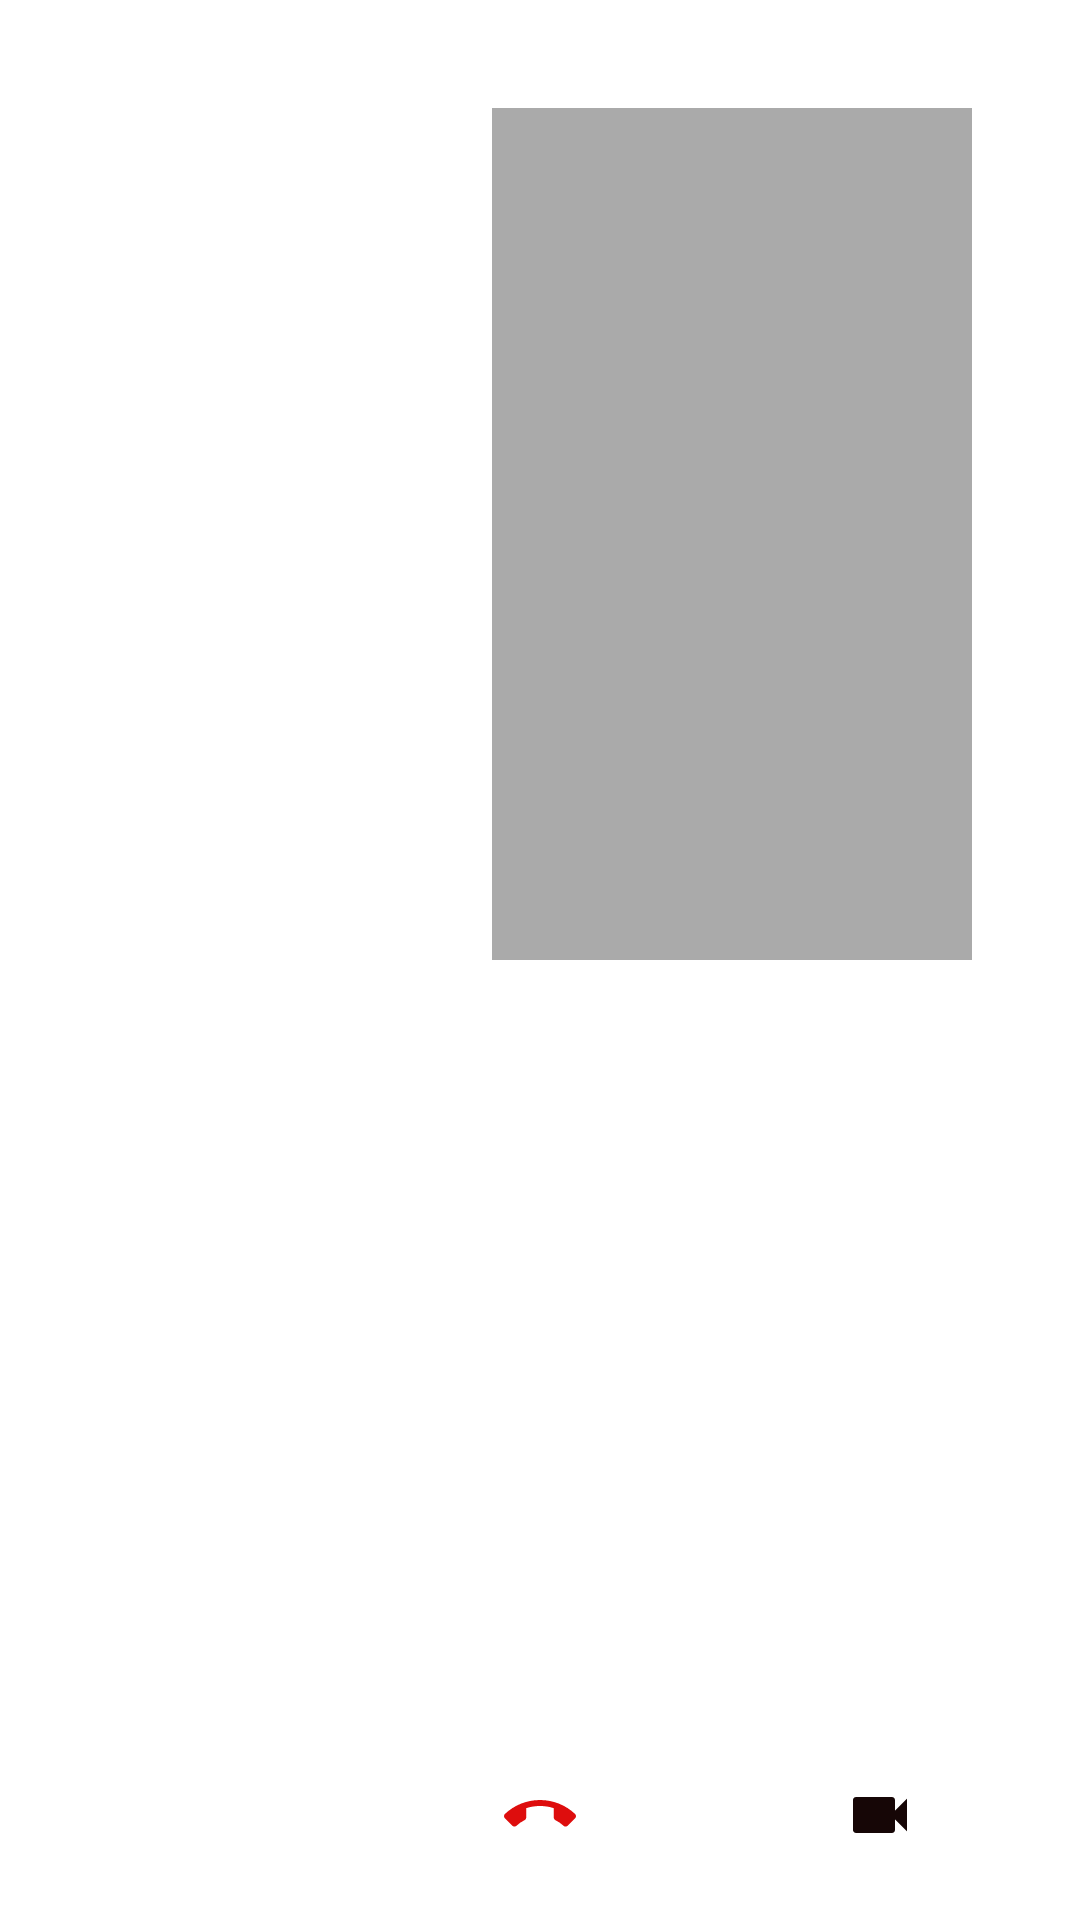

Icons on this 1080px x 1920px Android screen, each with the point to tap as (x,y):
call end: (540,1813)
videocam: (880,1815)
